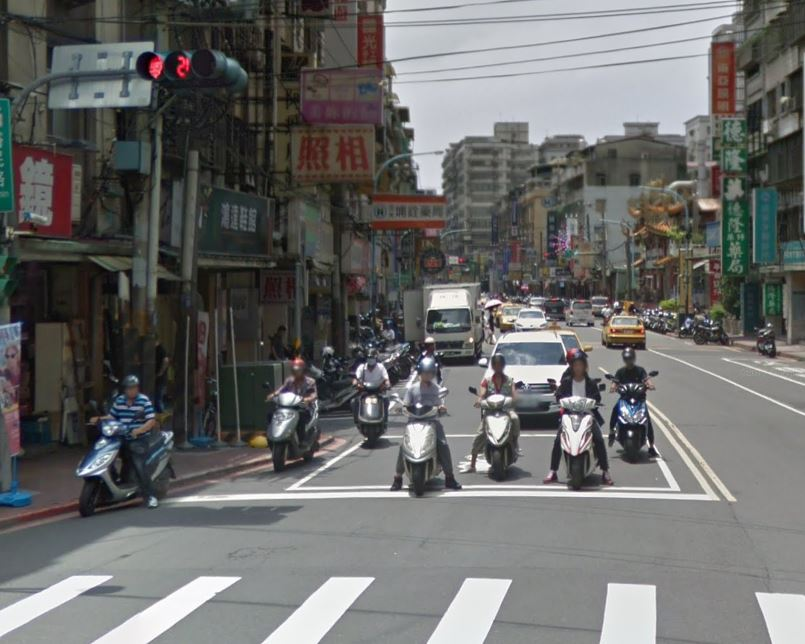Traffic_light_red: (134, 48, 250, 92)
motorcycle: (71, 398, 178, 518), (548, 377, 608, 490), (390, 389, 452, 496), (465, 382, 530, 475), (264, 381, 322, 472)
